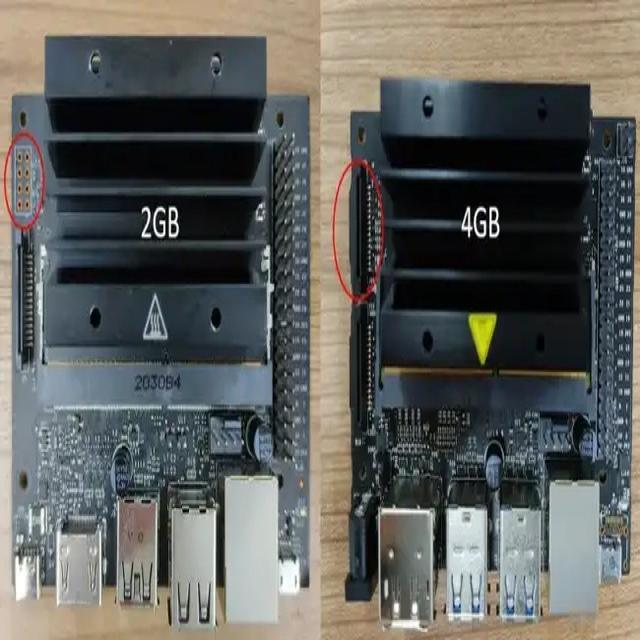Jetson Nano: (11, 37, 310, 626), (345, 82, 635, 628)
